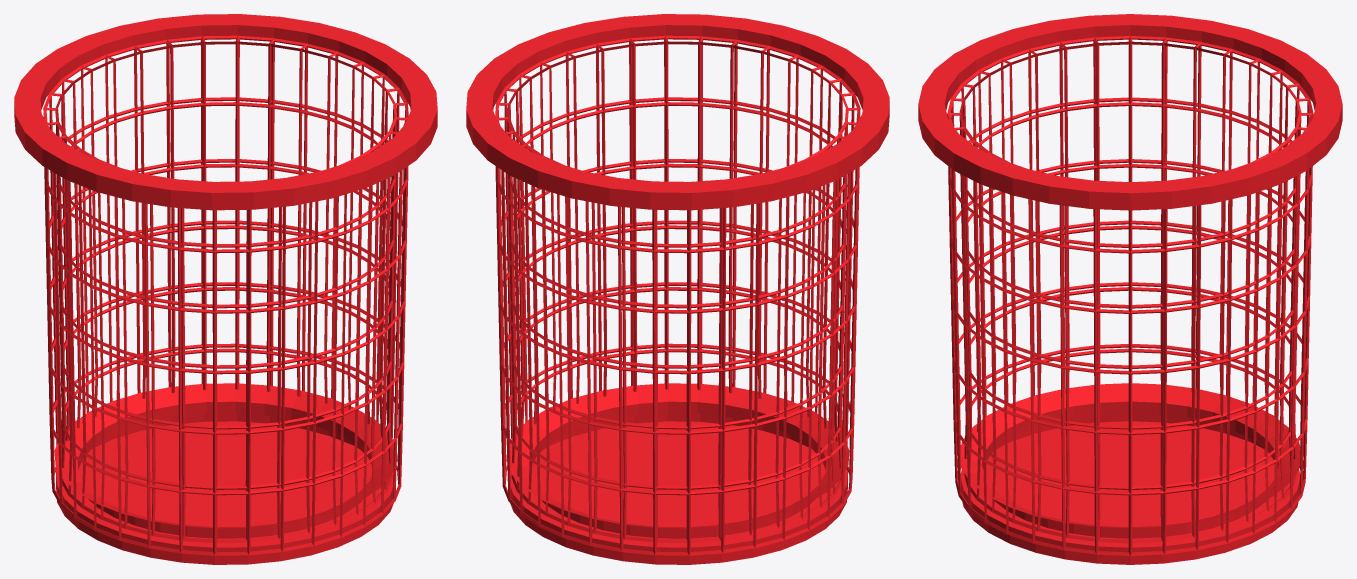
The model's file is uploads_files_3219950_Dustbin.fbx.
The picture shows the model from 3 angles, left to right: view 1: azimuth 30°, elevation 25°; view 2: azimuth 150°, elevation 25°; view 3: azimuth 270°, elevation 25°; orthographic projection.
Parts seen in each view (by area): view 1: Cylinder, Circle.007; view 2: Cylinder, Circle.007; view 3: Cylinder, Circle.007.
Boxes of the visible parts, x1,y1,x2,y2 form: Cylinder: [43, 35, 408, 555]; Circle.007: [14, 14, 437, 564]; Cylinder: [495, 35, 860, 555]; Circle.007: [466, 14, 889, 564]; Cylinder: [947, 36, 1313, 555]; Circle.007: [918, 14, 1342, 564].
Size of what is drawn, in the model's own units: 33.71 by 34.15 by 33.71.
